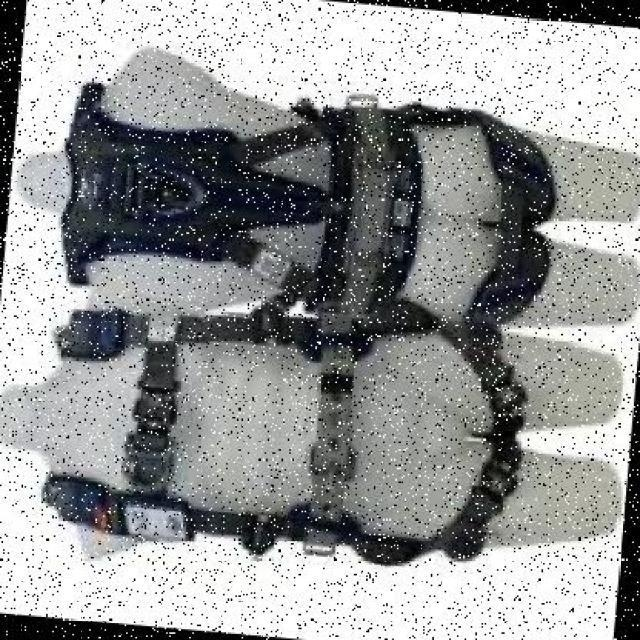Arnes_seguridad: (36, 269, 532, 580), (55, 70, 563, 333)
